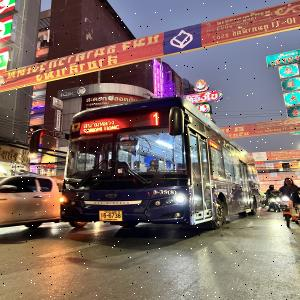Bus Line Number: (141, 107, 169, 132)
Bus Side Number: (152, 187, 177, 197)
Destination Sign: (80, 119, 123, 133)
TSB-Bus: (60, 97, 260, 230)
